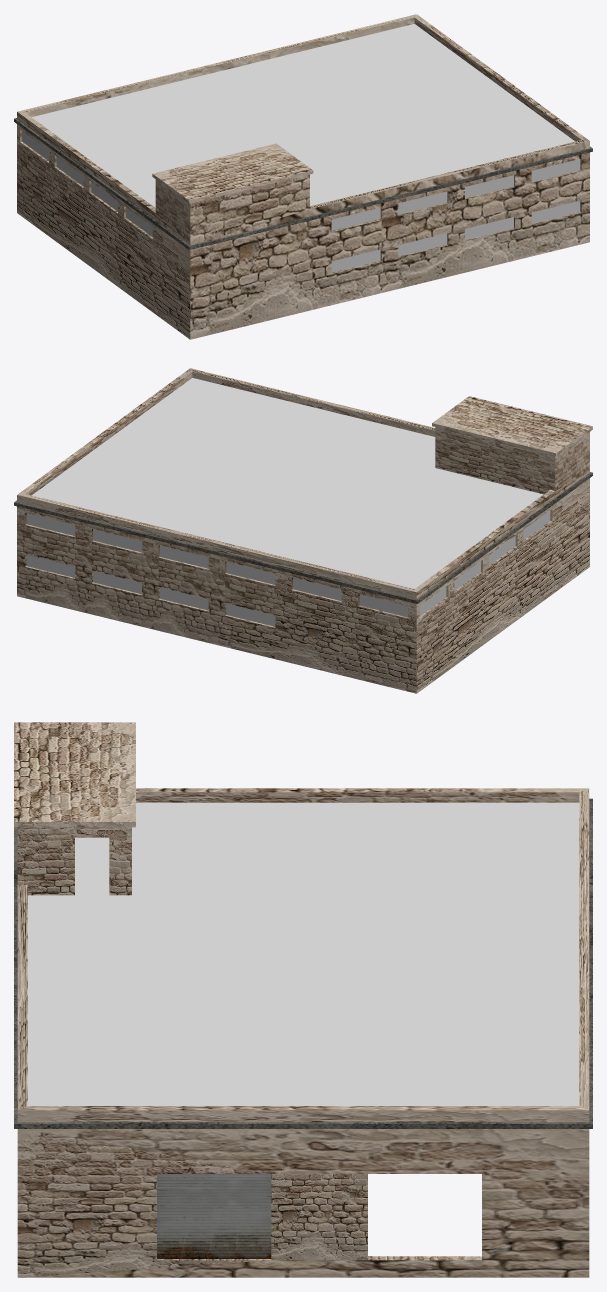
Rendered from build.FBX.
3 renders of one model, top to bottom at view 1: azimuth 30°, elevation 25°; view 2: azimuth 150°, elevation 25°; view 3: azimuth 270°, elevation 25°, orthographic. The views are drawn at different scales.
Parts seen in each view (by area): view 1: polySurface180, Plane001, 1, ding; view 2: polySurface180, Plane001, 1, ding; view 3: Plane001, polySurface180, dor, ding.
Boxes of the visible parts, box(x1,y1,x2,y2) form: polySurface180: box(17, 14, 589, 339); Plane001: box(32, 24, 574, 207); 1: box(22, 131, 580, 272); ding: box(14, 118, 592, 249); polySurface180: box(17, 368, 592, 693); Plane001: box(32, 378, 543, 588); 1: box(26, 510, 550, 626); ding: box(14, 472, 592, 603); Plane001: box(27, 802, 579, 1105); polySurface180: box(14, 722, 589, 1277); dor: box(157, 1174, 271, 1258); ding: box(14, 798, 592, 1128).
Bounding box in the file's own units: 32.02 × 10.65 × 24.1.
